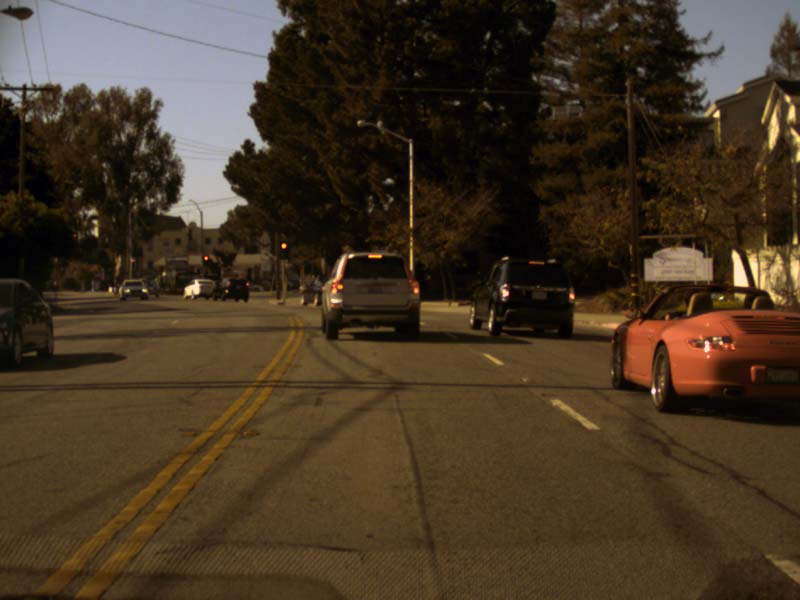Red: (279, 241, 288, 257), (203, 255, 209, 265), (131, 258, 135, 269)
